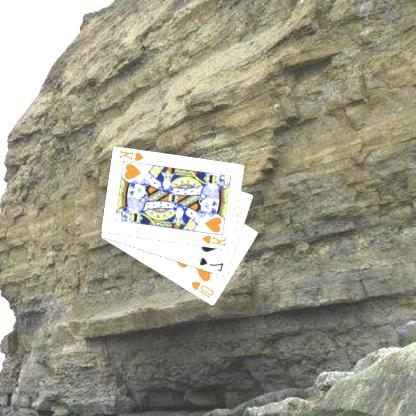10H: (190, 279, 217, 300)
7S: (198, 255, 227, 273)
KH: (118, 148, 147, 163), (202, 233, 229, 248)
